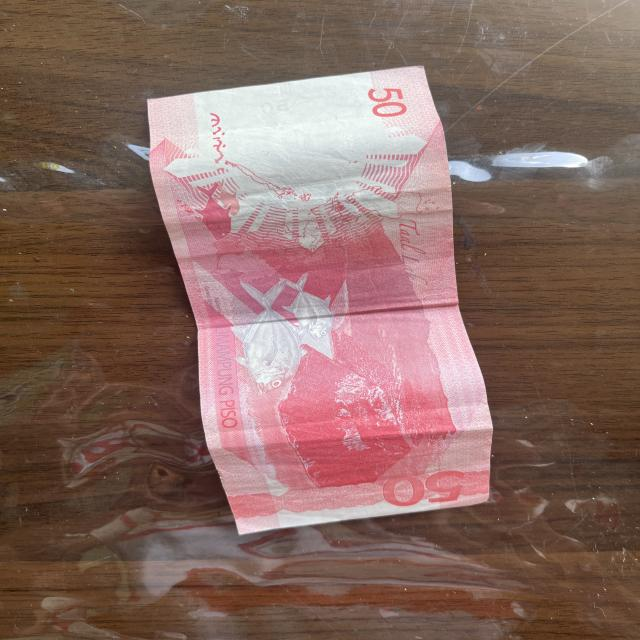50_maliputo: (212, 265, 353, 398)
50_maliputo_watermark: (184, 183, 258, 246)
value_watermark: (254, 95, 294, 124)
